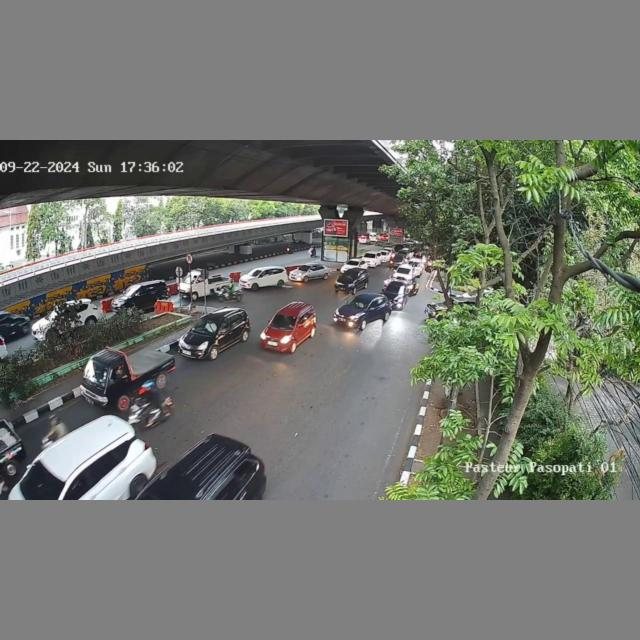windshield: (85, 360, 108, 384), (192, 318, 221, 333), (271, 314, 295, 330), (348, 297, 370, 310)
